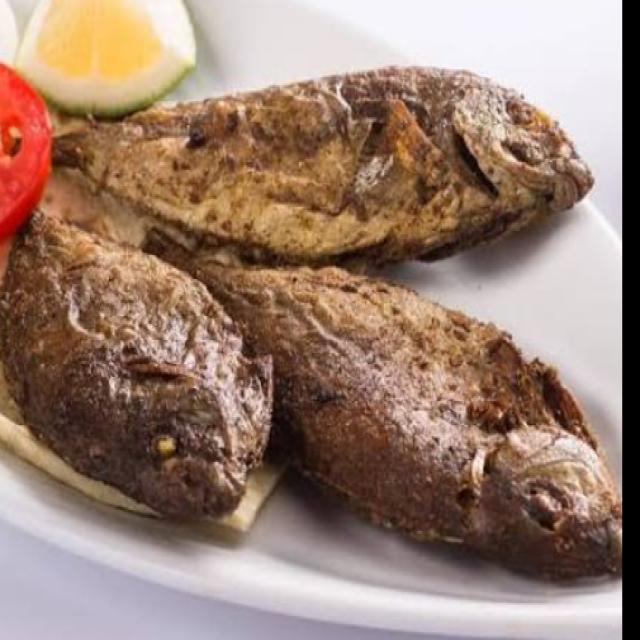Fried Fish: (15, 36, 619, 580)
